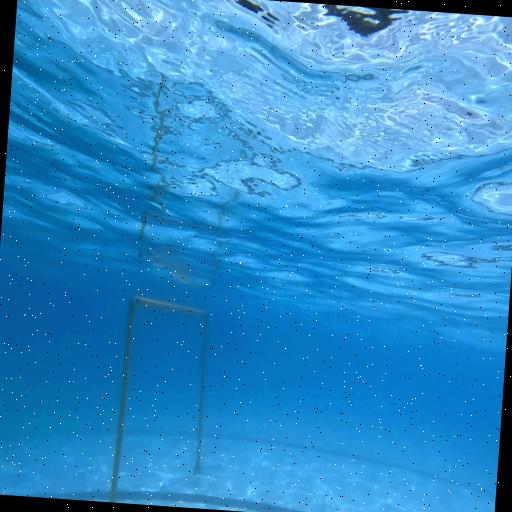gate: (108, 294, 212, 508)
